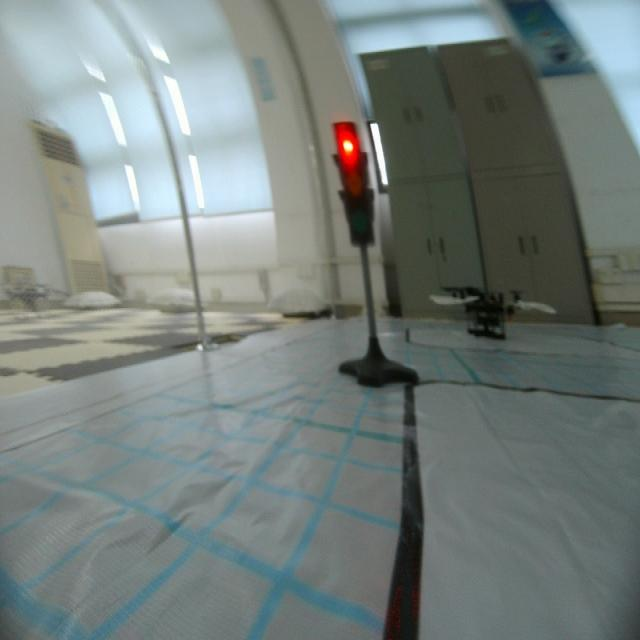red: (328, 110, 381, 252)
